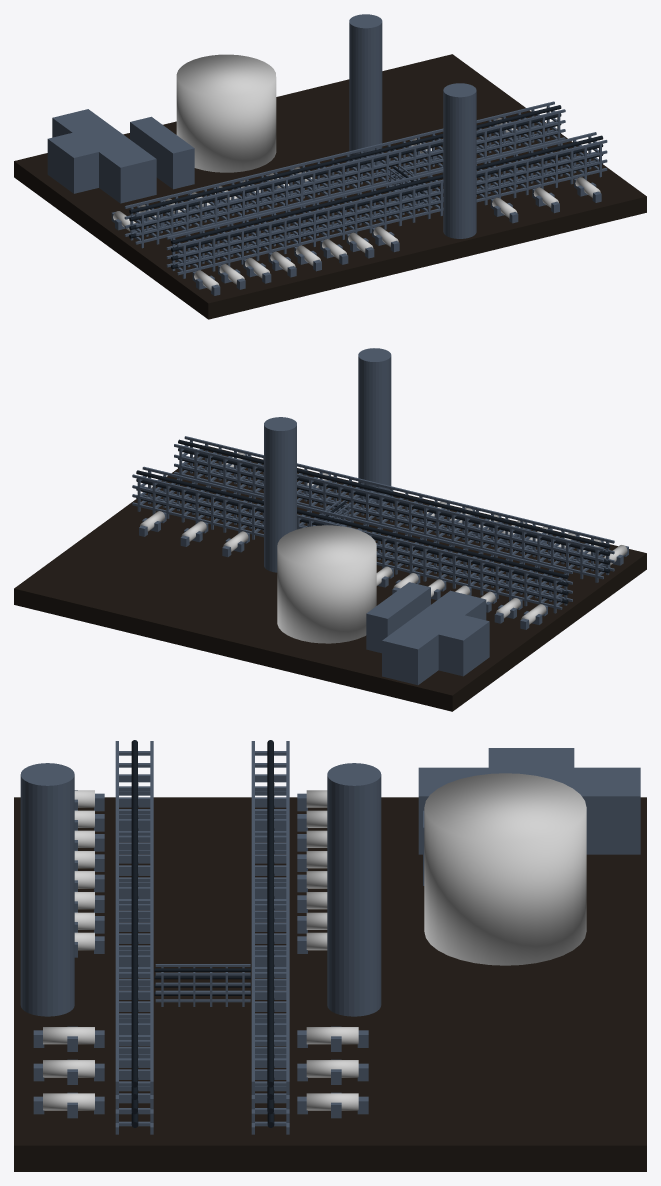
The model's file is Cooling Water System.fbx.
3 renders of one model, top to bottom at view 1: azimuth 30°, elevation 25°; view 2: azimuth 150°, elevation 25°; view 3: azimuth 270°, elevation 25°, orthographic. The views are drawn at different scales.
Parts seen in each view (by area): view 1: CoolingWaterSystem; view 2: CoolingWaterSystem; view 3: CoolingWaterSystem.
Part boxes in pixels (x1,y1,x2,y2): CoolingWaterSystem: (14, 14, 646, 319); CoolingWaterSystem: (14, 348, 646, 711); CoolingWaterSystem: (14, 740, 646, 1171).
Bounding box in the file's own units: 99.68 × 34.32 × 76.57.
